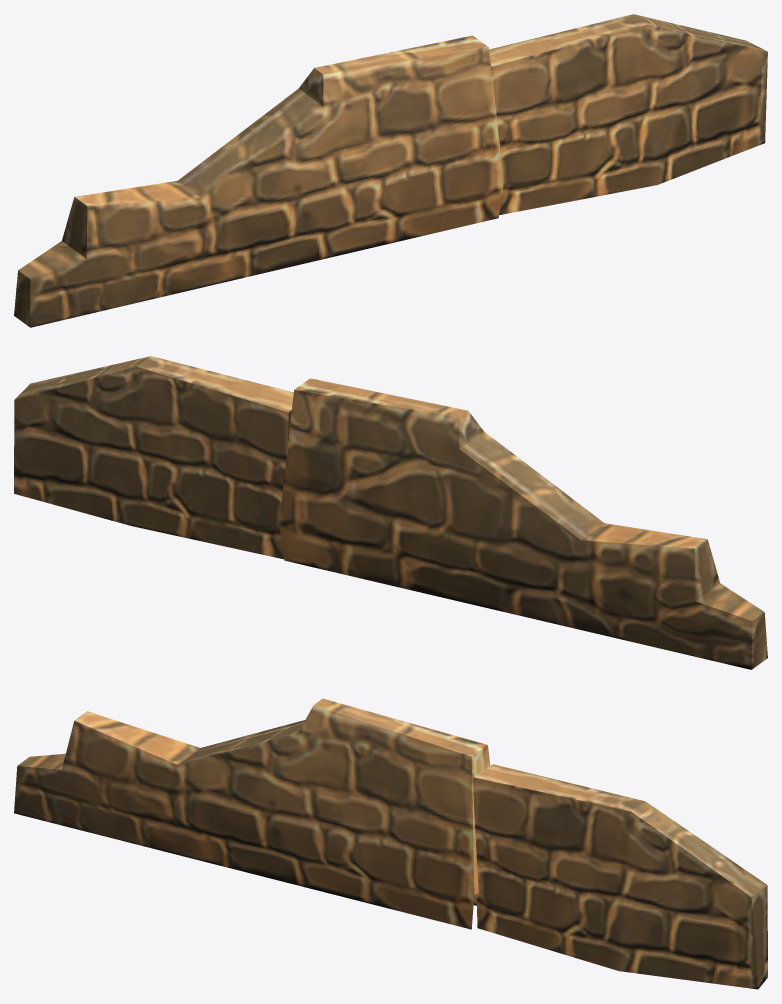
File: Wall_3.fbx
3 views of the same model, one above another, from view 1: azimuth 30°, elevation 25°; view 2: azimuth 150°, elevation 25°; view 3: azimuth 330°, elevation 25° (orthographic).
Parts seen in each view (by area): view 1: remnants_3; view 2: remnants_3; view 3: remnants_3.
Part boxes in pixels (left/top/right/bottom): remnants_3: left=14, top=14, right=767, bottom=327; remnants_3: left=14, top=356, right=767, bottom=669; remnants_3: left=14, top=698, right=767, bottom=989.
Size of the model in its own units: 9.5 by 2.18 by 0.768.
